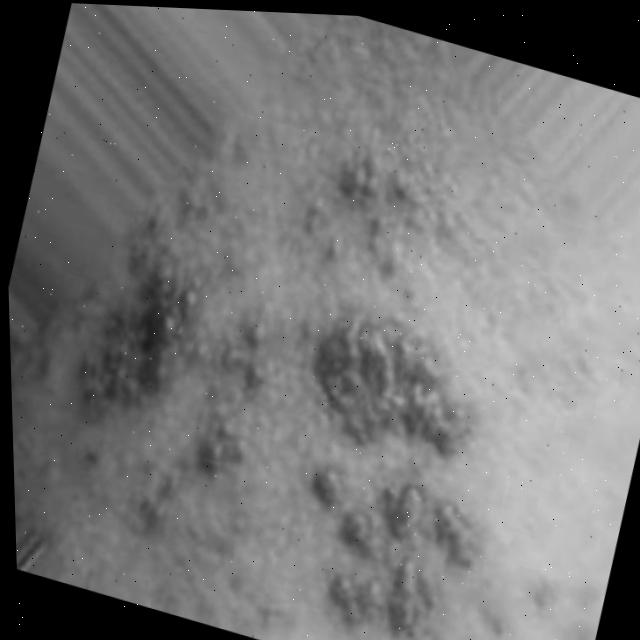Shingles: (2, 69, 640, 640)
